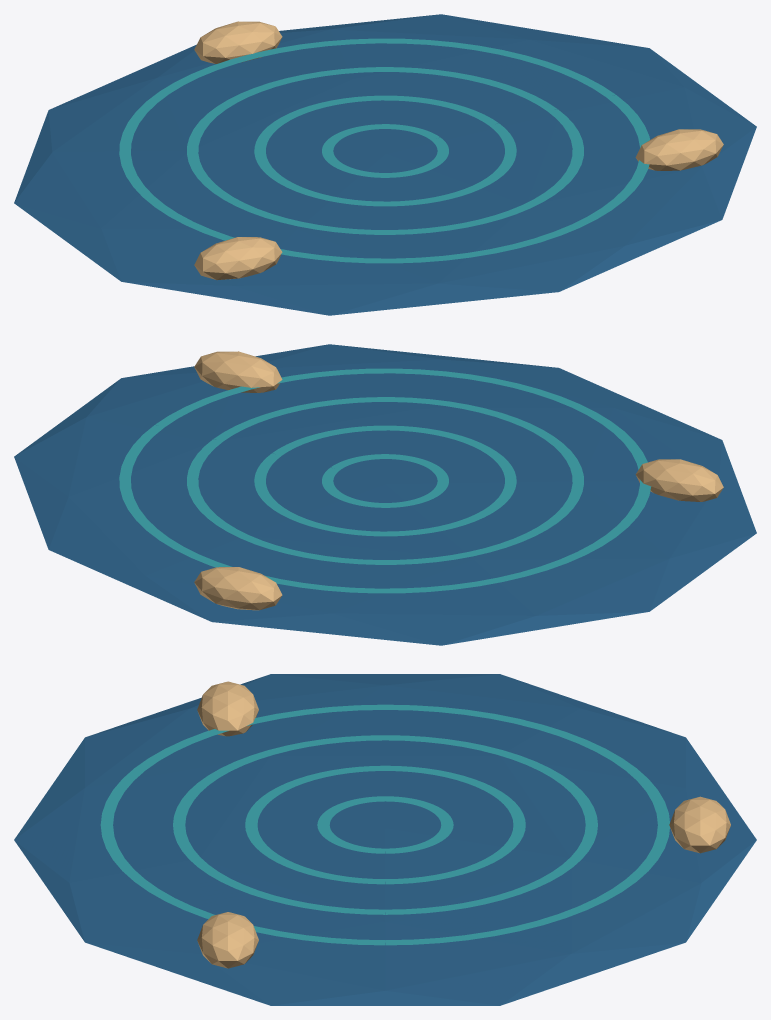
File: FEATURE_BERMUDA_TRIANGLE.fbx
3 renders of one model, top to bottom at view 1: azimuth 30°, elevation 25°; view 2: azimuth 150°, elevation 25°; view 3: azimuth 270°, elevation 25°, orthographic. The views are drawn at different scales.
Parts seen in each view (by area): view 1: Atlantic_anomaly, Current_ring.003, Current_ring.002, Current_ring.001, Boundary_islet.001, Boundary_islet.002, Boundary_islet, Current_ring; view 2: Atlantic_anomaly, Current_ring.003, Current_ring.002, Current_ring.001, Boundary_islet, Boundary_islet.001, Boundary_islet.002, Current_ring; view 3: Atlantic_anomaly, Current_ring.003, Current_ring.002, Current_ring.001, Boundary_islet, Boundary_islet.002, Boundary_islet.001, Current_ring.
Boxes of the visible parts, x1,y1,x2,y2 form: Atlantic_anomaly: (14, 14, 756, 315); Current_ring.003: (119, 38, 649, 263); Current_ring.002: (187, 67, 583, 234); Current_ring.001: (254, 95, 516, 206); Boundary_islet.001: (194, 237, 282, 280); Boundary_islet.002: (635, 129, 723, 170); Boundary_islet: (194, 21, 282, 63); Current_ring: (322, 124, 448, 177); Atlantic_anomaly: (14, 344, 756, 645); Current_ring.003: (119, 368, 651, 593); Current_ring.002: (187, 397, 583, 564); Current_ring.001: (254, 425, 516, 536); Boundary_islet: (194, 567, 282, 610); Boundary_islet.001: (635, 459, 723, 501); Boundary_islet.002: (194, 351, 282, 392); Current_ring: (322, 454, 448, 507); Atlantic_anomaly: (14, 674, 756, 1005); Current_ring.003: (100, 704, 669, 945); Current_ring.002: (173, 735, 597, 914); Current_ring.001: (245, 765, 525, 884); Boundary_islet: (669, 796, 730, 853); Boundary_islet.002: (197, 912, 258, 968); Boundary_islet.001: (197, 681, 258, 736); Current_ring: (317, 796, 453, 853).
Bounding box in the file's own units: 152 × 9.7 × 144.
